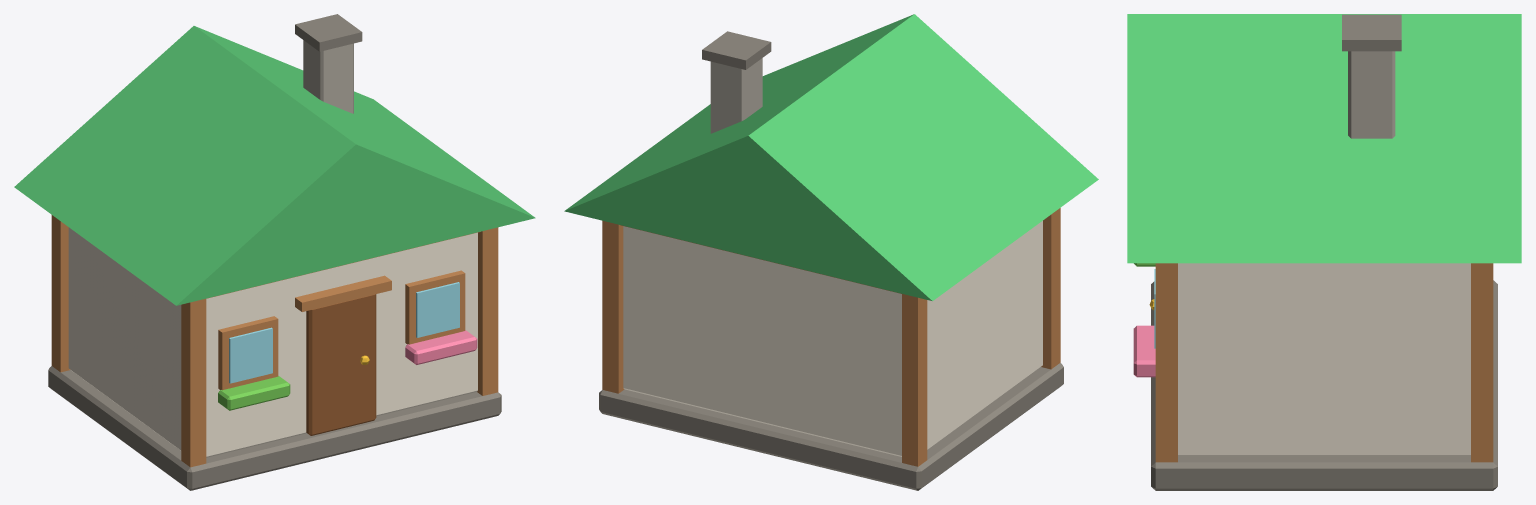
File: helper_house.glb
3 renders of one model, left to right at view 1: azimuth 30°, elevation 25°; view 2: azimuth 150°, elevation 25°; view 3: azimuth 270°, elevation 25°, orthographic. The views are drawn at different scales.
Parts seen in each view (by area): view 1: helper_house; view 2: helper_house; view 3: helper_house.
Part boxes in pixels (left/top/right/bottom): helper_house: left=14, top=14, right=535, bottom=490; helper_house: left=564, top=14, right=1098, bottom=490; helper_house: left=1127, top=14, right=1521, bottom=490.
Size of the model in its own units: 3.2 by 2.91 by 2.5.
